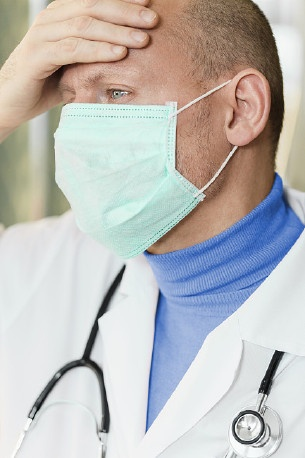Mask: (50, 65, 239, 254)
